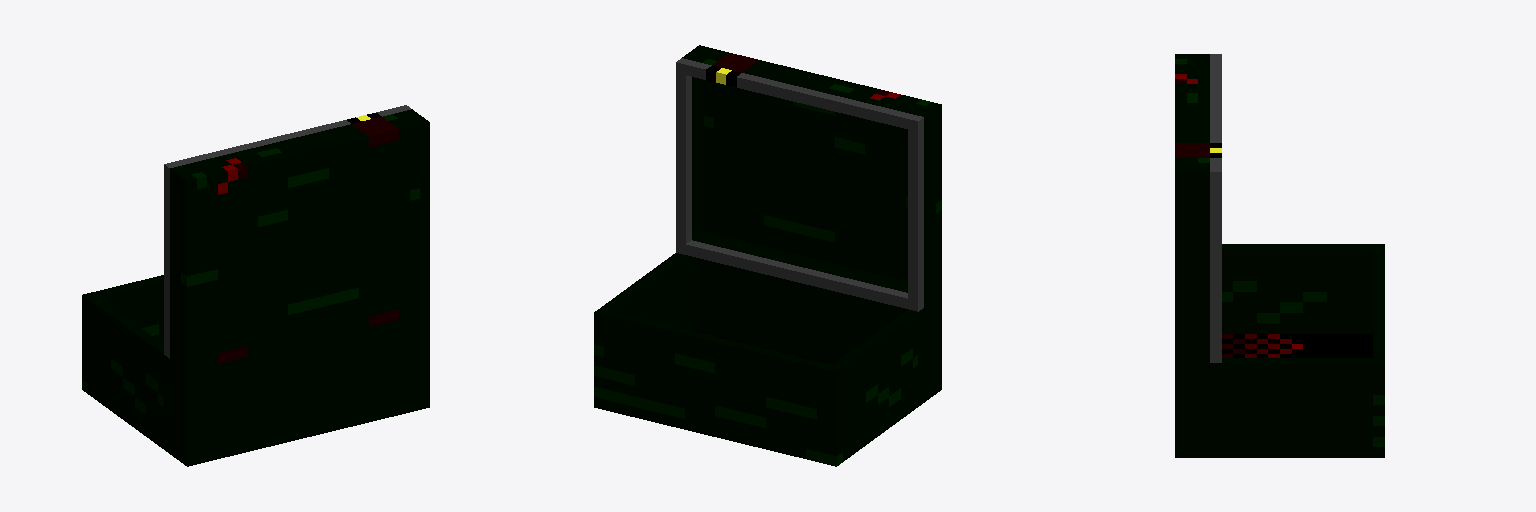
The picture shows the model from 3 angles: view 1: azimuth 30°, elevation 25°; view 2: azimuth 150°, elevation 25°; view 3: azimuth 270°, elevation 25°; orthographic projection.
Parts seen in each view (by area): view 1: house_open_trunk; view 2: house_open_trunk; view 3: house_open_trunk.
Boxes of the visible parts, x1=… form: house_open_trunk: x1=82, y1=105, x2=429, y2=466; house_open_trunk: x1=594, y1=45, x2=941, y2=466; house_open_trunk: x1=1175, y1=54, x2=1384, y2=457.
Size of the model in its own units: 24 by 27 by 18.
1 materials, 1 textured.